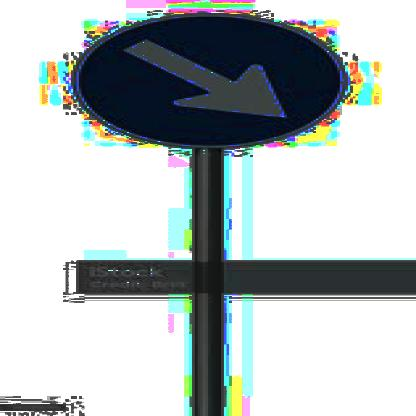Keep right: (70, 16, 357, 147)
